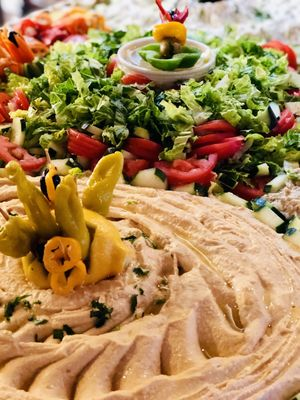curry: (179, 41, 300, 137)
